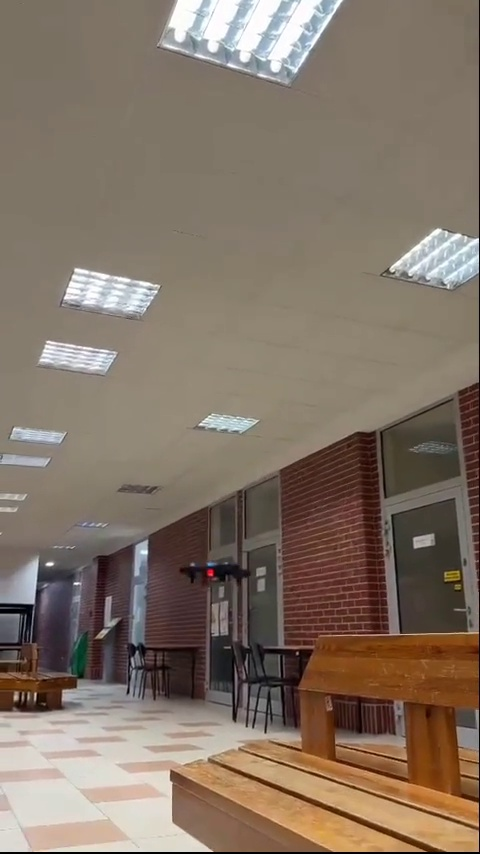drone: (177, 557, 252, 590)
